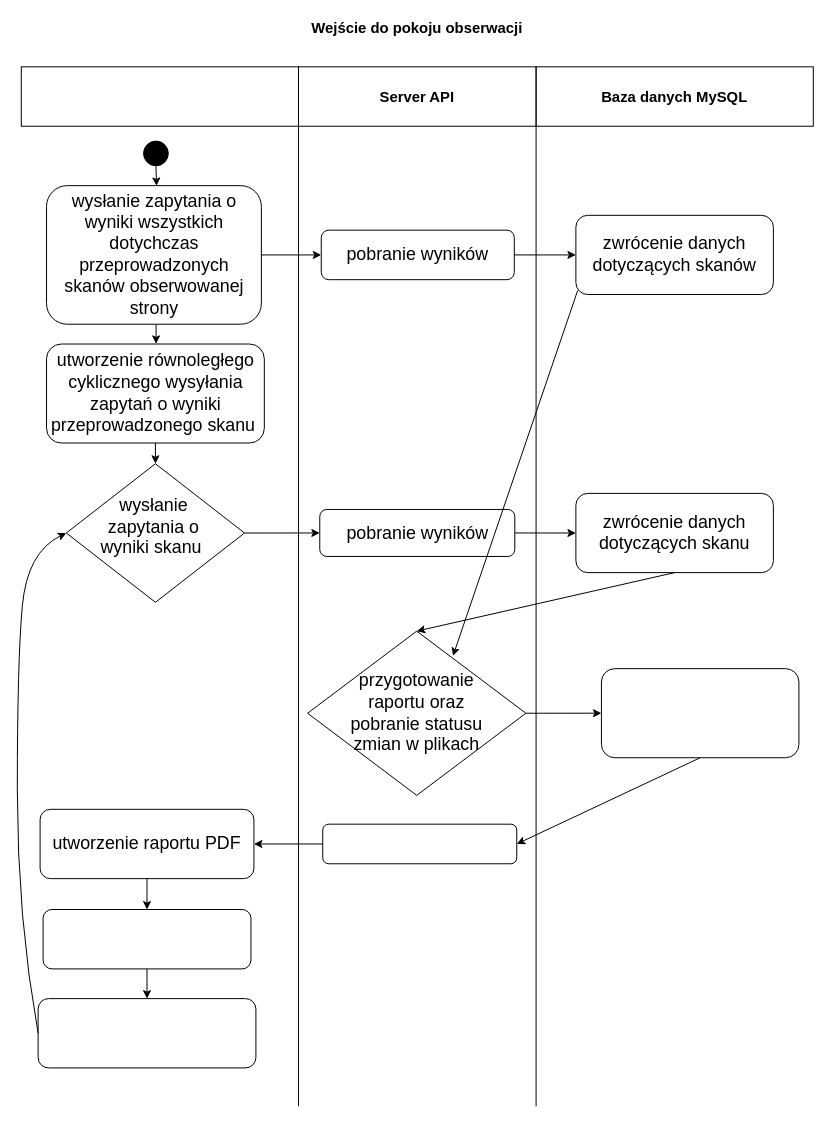
This 831x1125 diagram has some shape labels left out. Each missing label, with the centre of its shape:
Aplikacja React.js: (159,96)
wysłanie wyników: (419,843)
wyświetlenie powiadomienia w przeglądarce: (146,1033)
wyświetlenie raport ze zmian na stronie: (146,939)
zwrócenie danych dotyczących zmian w plikach: (699,713)
